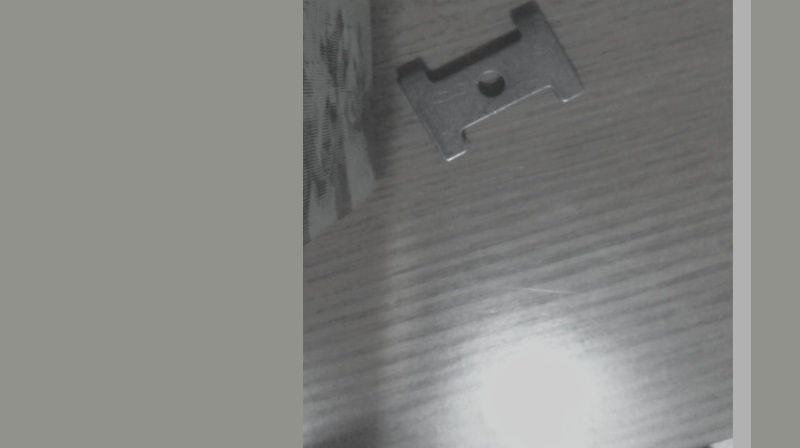O002: (396, 1, 587, 162)
